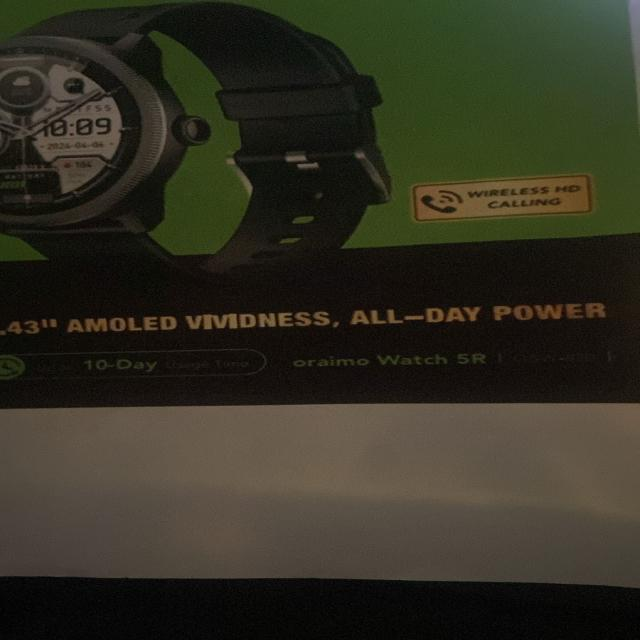Oraimo Watch 5R OSW-820: (294, 344, 623, 380)
